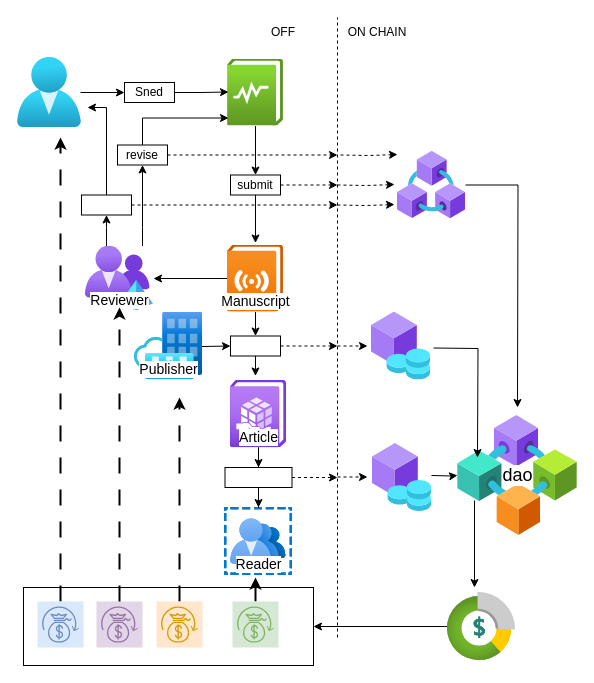
This 594x683 diagram has some shape labels left out. The centre of each missing label's shape, as x and y in pixels:
"Author" belongs at point (49, 92).
"download" belongs at point (258, 477).
"Draft" belongs at point (255, 92).
"publish" belongs at point (255, 345).
"reject" belongs at point (106, 204).
